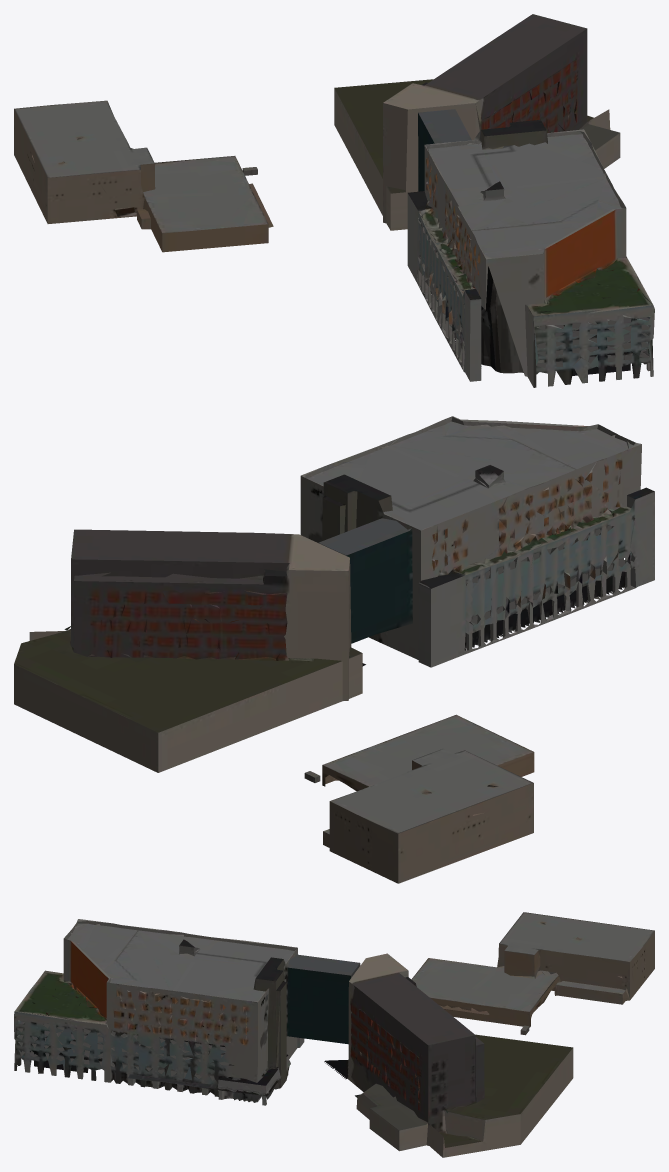
File: t_1_3.coat.glb
3 views of the same model, one above another, from view 1: azimuth 30°, elevation 25°; view 2: azimuth 150°, elevation 25°; view 3: azimuth 270°, elevation 25° (orthographic). The views are drawn at different scales.
Parts seen in each view (by area): view 1: far; view 2: far; view 3: far.
Boxes of the visible parts, <box> form: far: <box>14,14,654,387</box>; far: <box>14,416,654,883</box>; far: <box>14,912,654,1157</box>.
Bounding box in the file's own units: 188 × 45.77 × 246.
Materials: 1 (1 with a texture image).
